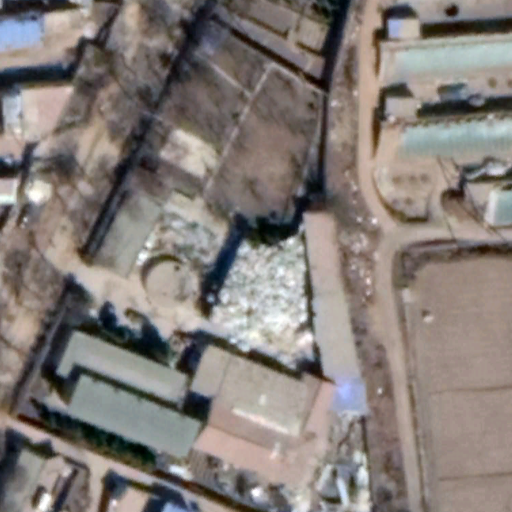msw: (210, 229, 322, 373)
